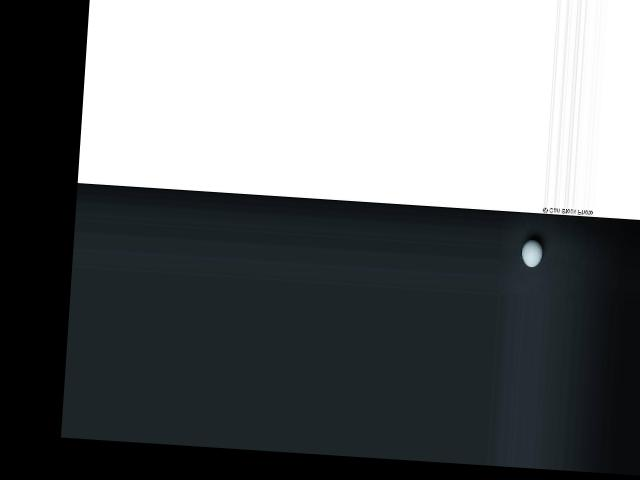egg: (520, 238, 543, 267)
